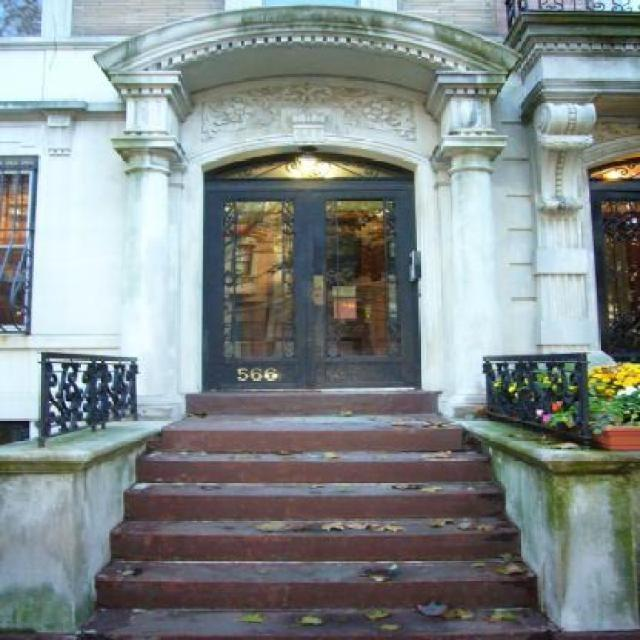stair: (74, 389, 563, 640)
